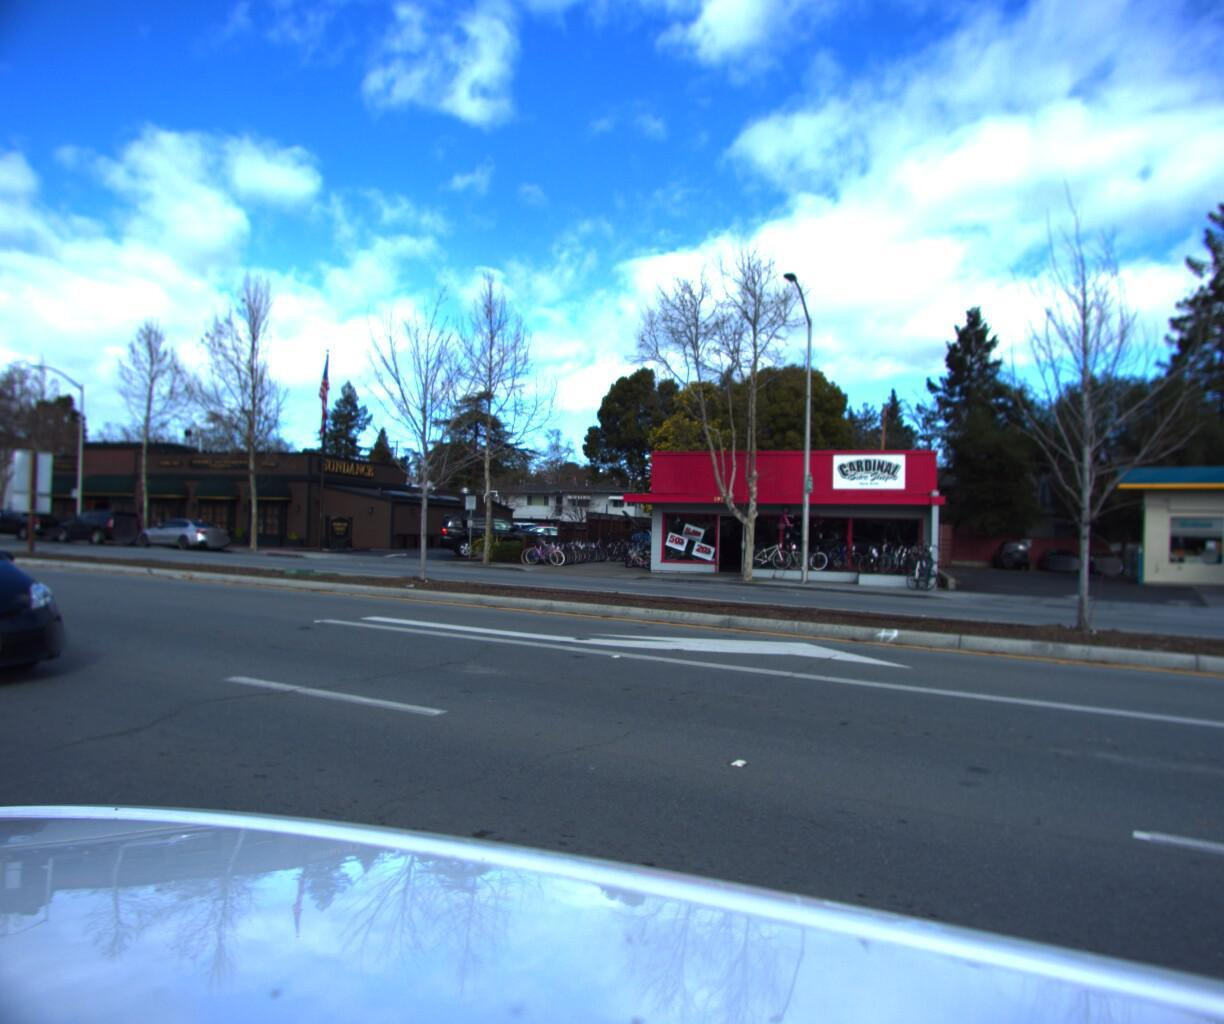bicycle: (516, 537, 560, 567), (521, 536, 565, 565), (529, 536, 571, 565), (535, 536, 577, 564), (542, 535, 583, 563), (912, 554, 944, 589), (556, 535, 596, 562), (548, 535, 588, 562), (562, 535, 601, 561), (607, 546, 651, 568), (566, 535, 604, 560), (612, 546, 655, 567), (792, 549, 822, 579), (769, 548, 797, 578), (737, 547, 763, 577), (750, 543, 777, 573), (616, 537, 639, 563), (604, 537, 627, 562)
car: (433, 513, 550, 560), (128, 519, 239, 555), (48, 513, 150, 550)
